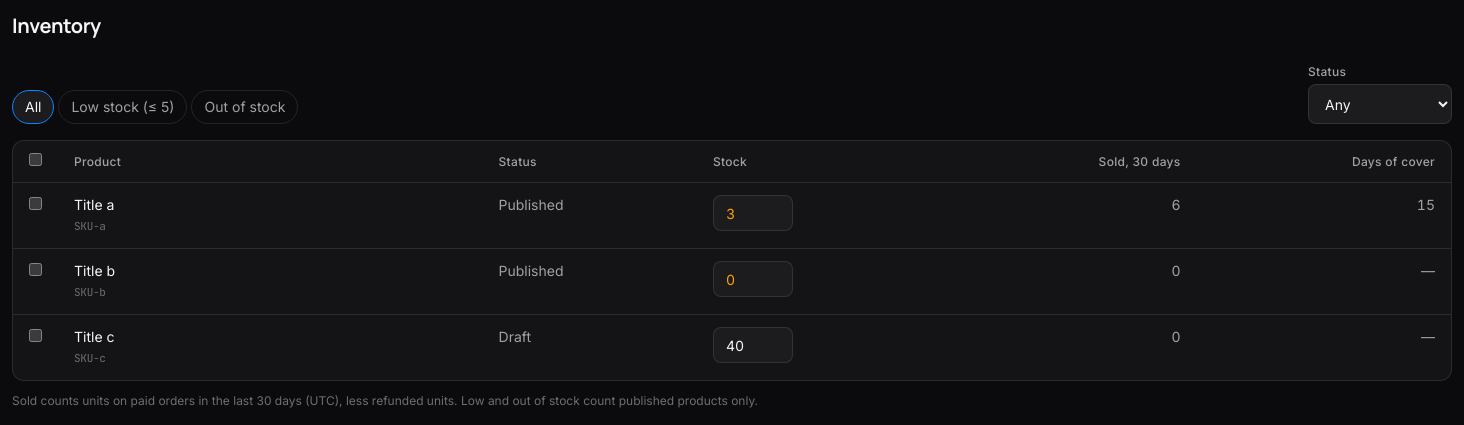
it: the inventory page › filters to low and to out of stock, counting live products only, and keeps the filter in the URL
Click the button "Low stock (≤ 5)": (123, 107) [58, 90, 188, 124]
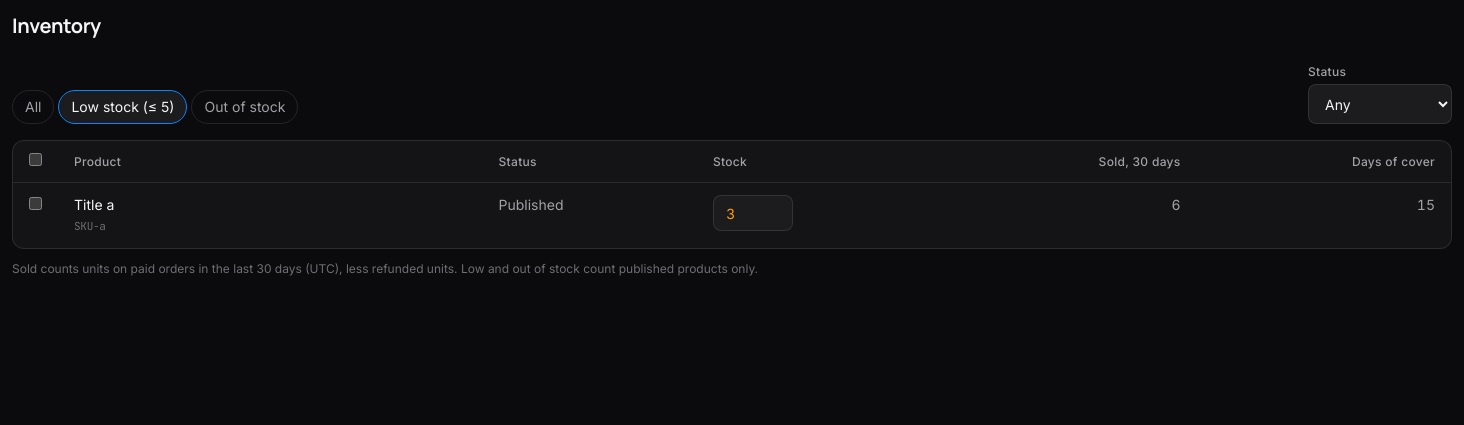
Click the button "Out of stock": (245, 107) [192, 90, 298, 124]
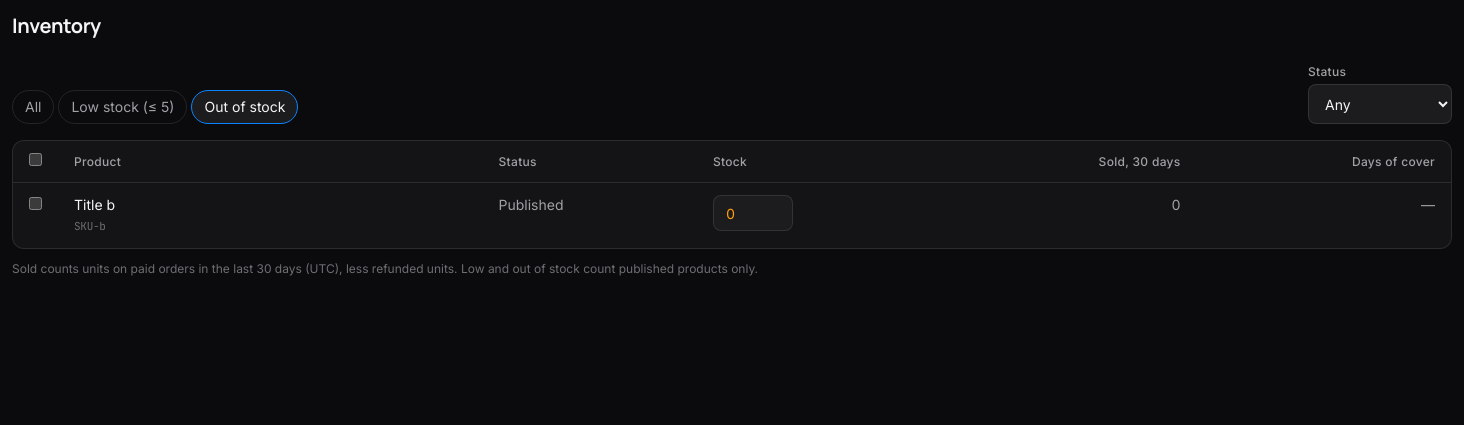
Now the cell "Title b SKU-b" is shown, box [58, 182, 482, 248]
